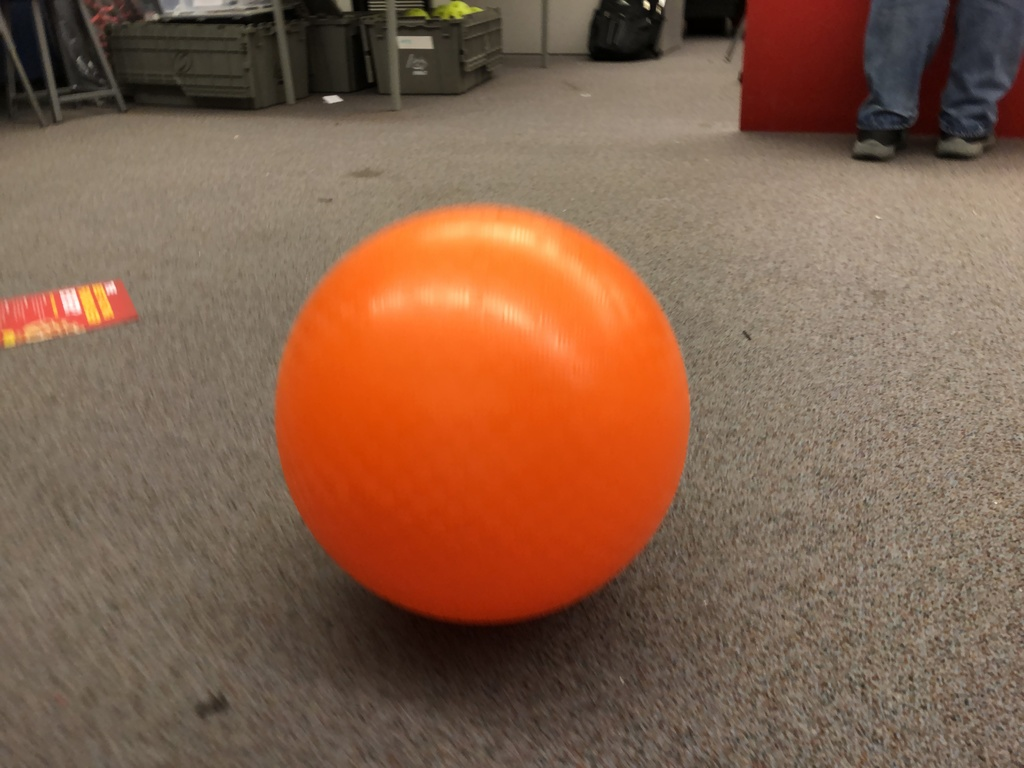cargo: (258, 193, 695, 640)
